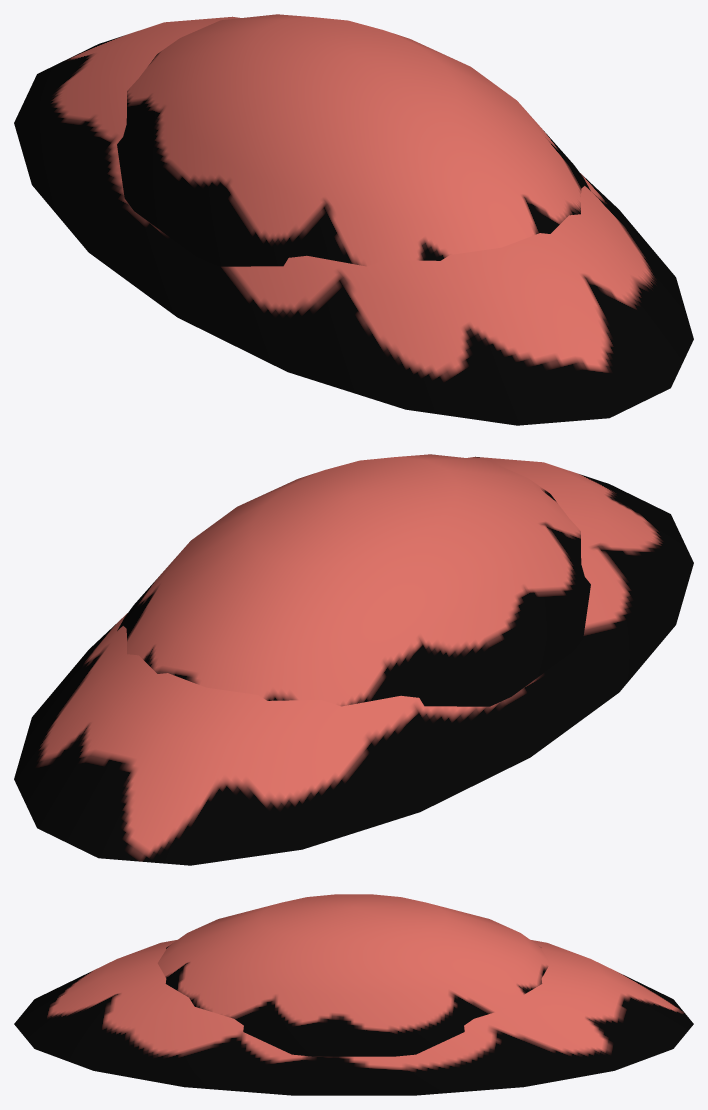
Rendered from SM_LeafTree03.fbx.
3 views of the same model, one above another, from view 1: azimuth 30°, elevation 25°; view 2: azimuth 150°, elevation 25°; view 3: azimuth 270°, elevation 25° (orthographic). The views are drawn at different scales.
Parts seen in each view (by area): view 1: Sphere020; view 2: Sphere020; view 3: Sphere020.
Boxes of the visible parts, <box> form: Sphere020: <box>14,14,693,425</box>; Sphere020: <box>14,454,693,865</box>; Sphere020: <box>14,894,693,1095</box>.
Bounding box in the file's own units: 1323 × 568 × 2652.
